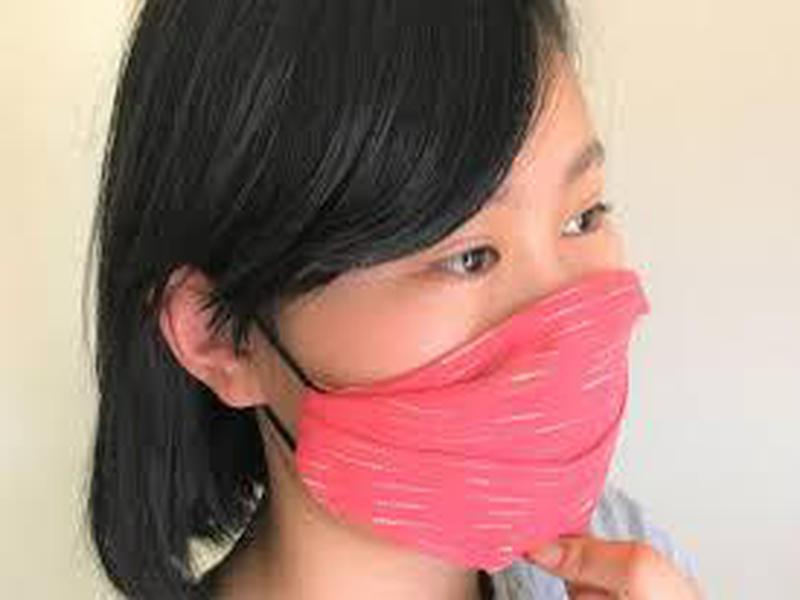with_mask: (91, 1, 651, 576)
